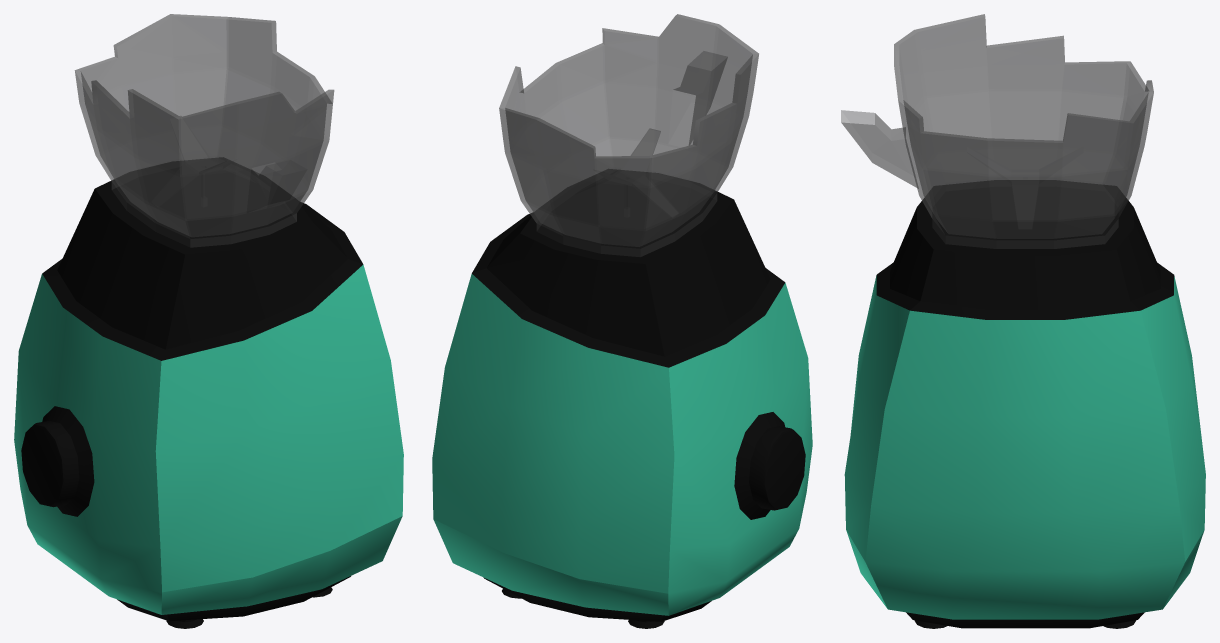
The model's file is Cafe_Blender.fbx.
3 views of the same model, side by side, from view 1: azimuth 30°, elevation 25°; view 2: azimuth 150°, elevation 25°; view 3: azimuth 270°, elevation 25° (orthographic). The views are drawn at different scales.
Visible parts, largest first — view 1: Blender; view 2: Blender; view 3: Blender.
Part boxes in pixels (<box>): Blender: <box>14,14,403,628</box>; Blender: <box>432,14,812,628</box>; Blender: <box>841,14,1205,628</box>.
Size of the model in its own units: 19.05 by 30.53 by 19.05.
